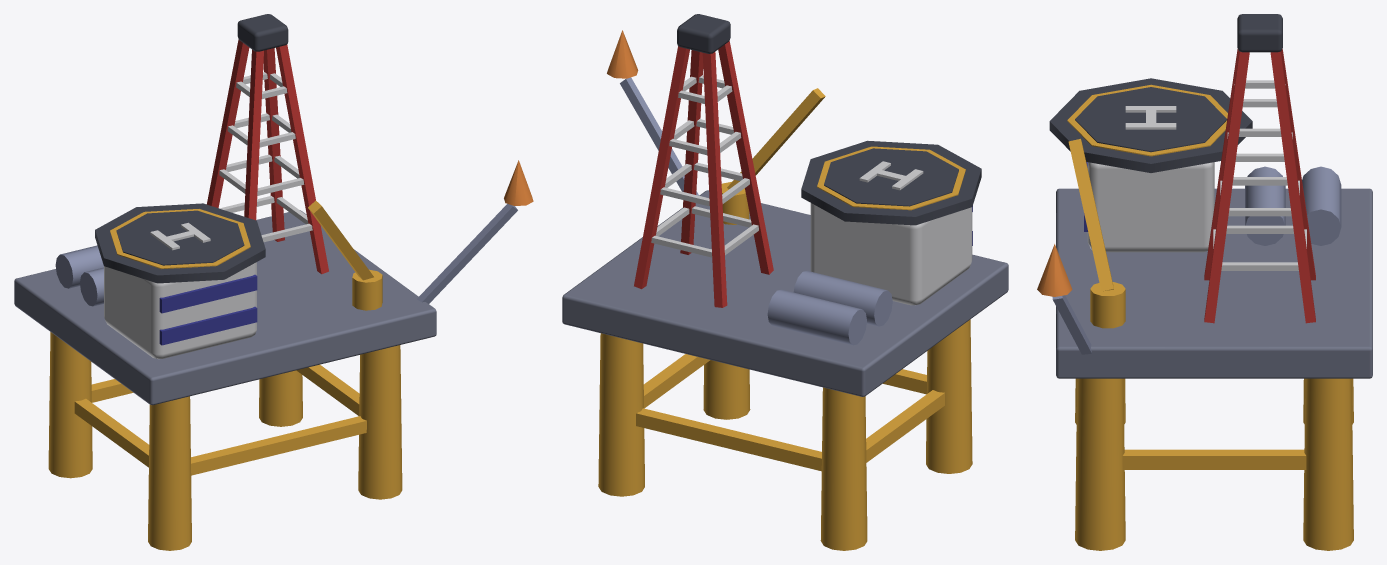
Rendered from plataforma-petroleo.glb.
3 views of the same model, side by side, from view 1: azimuth 30°, elevation 25°; view 2: azimuth 150°, elevation 25°; view 3: azimuth 270°, elevation 25° (orthographic). The views are drawn at different scales.
Visible parts, largest first — view 1: modelo; view 2: modelo; view 3: modelo.
Part boxes in pixels (x1,y1,x2,y2): modelo: (14, 14, 533, 550); modelo: (562, 14, 1008, 550); modelo: (1037, 14, 1372, 550).
Bounding box in the file's own units: 3.5 × 3.71 × 2.3.
